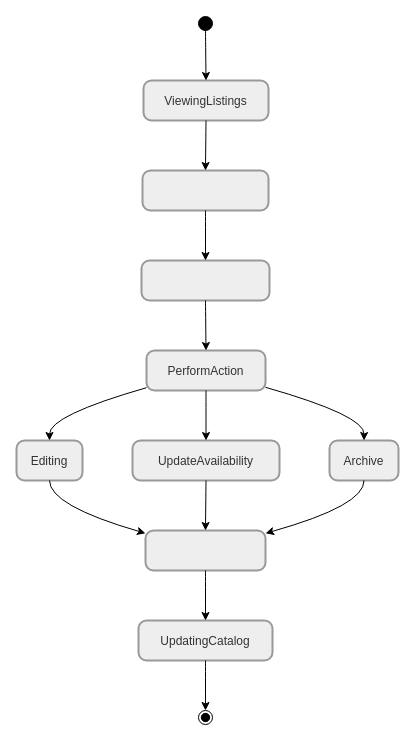
Some shapes in this 415 by 741 pixel diagram are drawn without their labels. The centre of each missing label's shape, as x and y in pixels:
FilteringSorting: the point at 205,190
SavingChanges: the point at 205,550
SelectingListing: the point at 205,280
